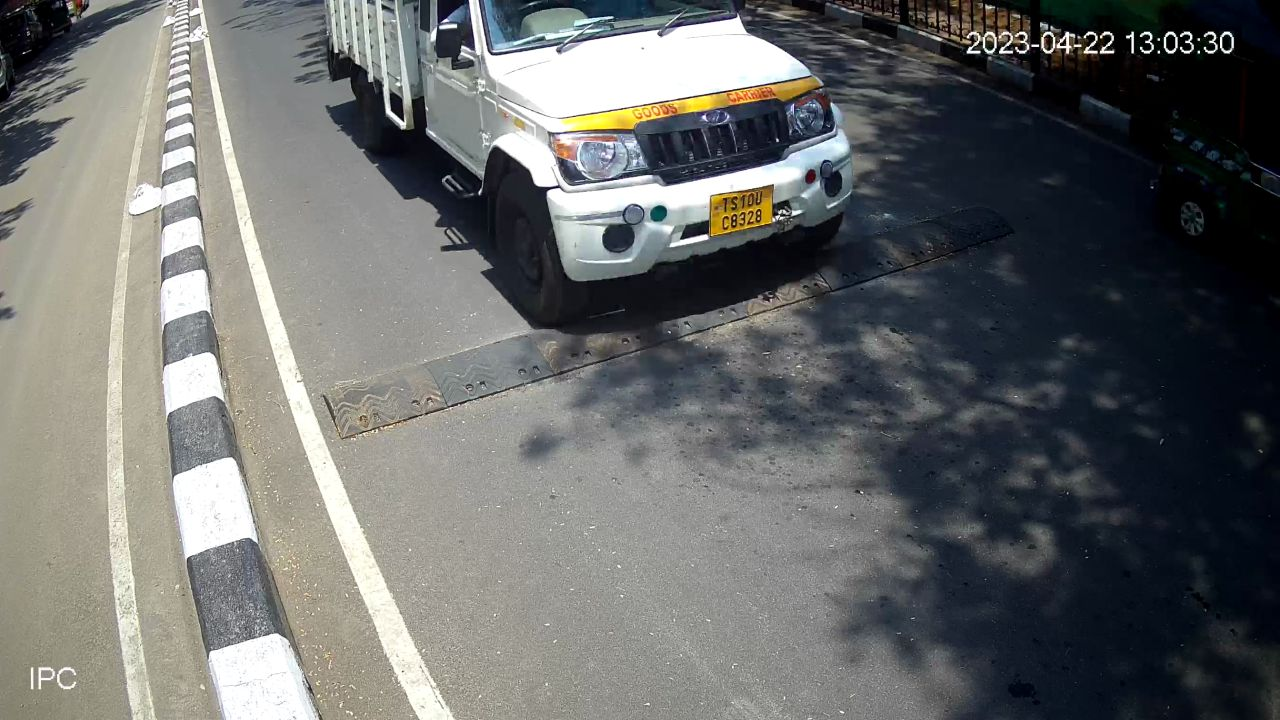license_plate: (703, 179, 782, 240)
